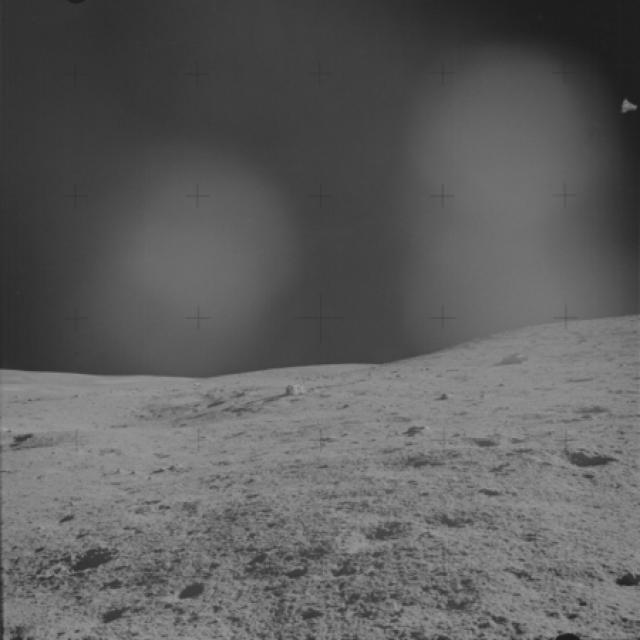crater: (529, 438, 618, 488), (0, 413, 87, 463), (33, 538, 119, 587), (325, 515, 417, 560), (61, 594, 145, 634), (362, 449, 445, 484), (161, 568, 220, 610), (446, 428, 509, 454), (562, 397, 608, 418)
rock: (489, 344, 540, 373), (607, 556, 639, 596), (403, 417, 441, 440), (282, 376, 312, 405), (434, 386, 458, 403)
